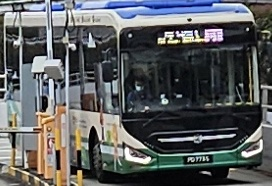bus: (203, 28, 223, 43)
